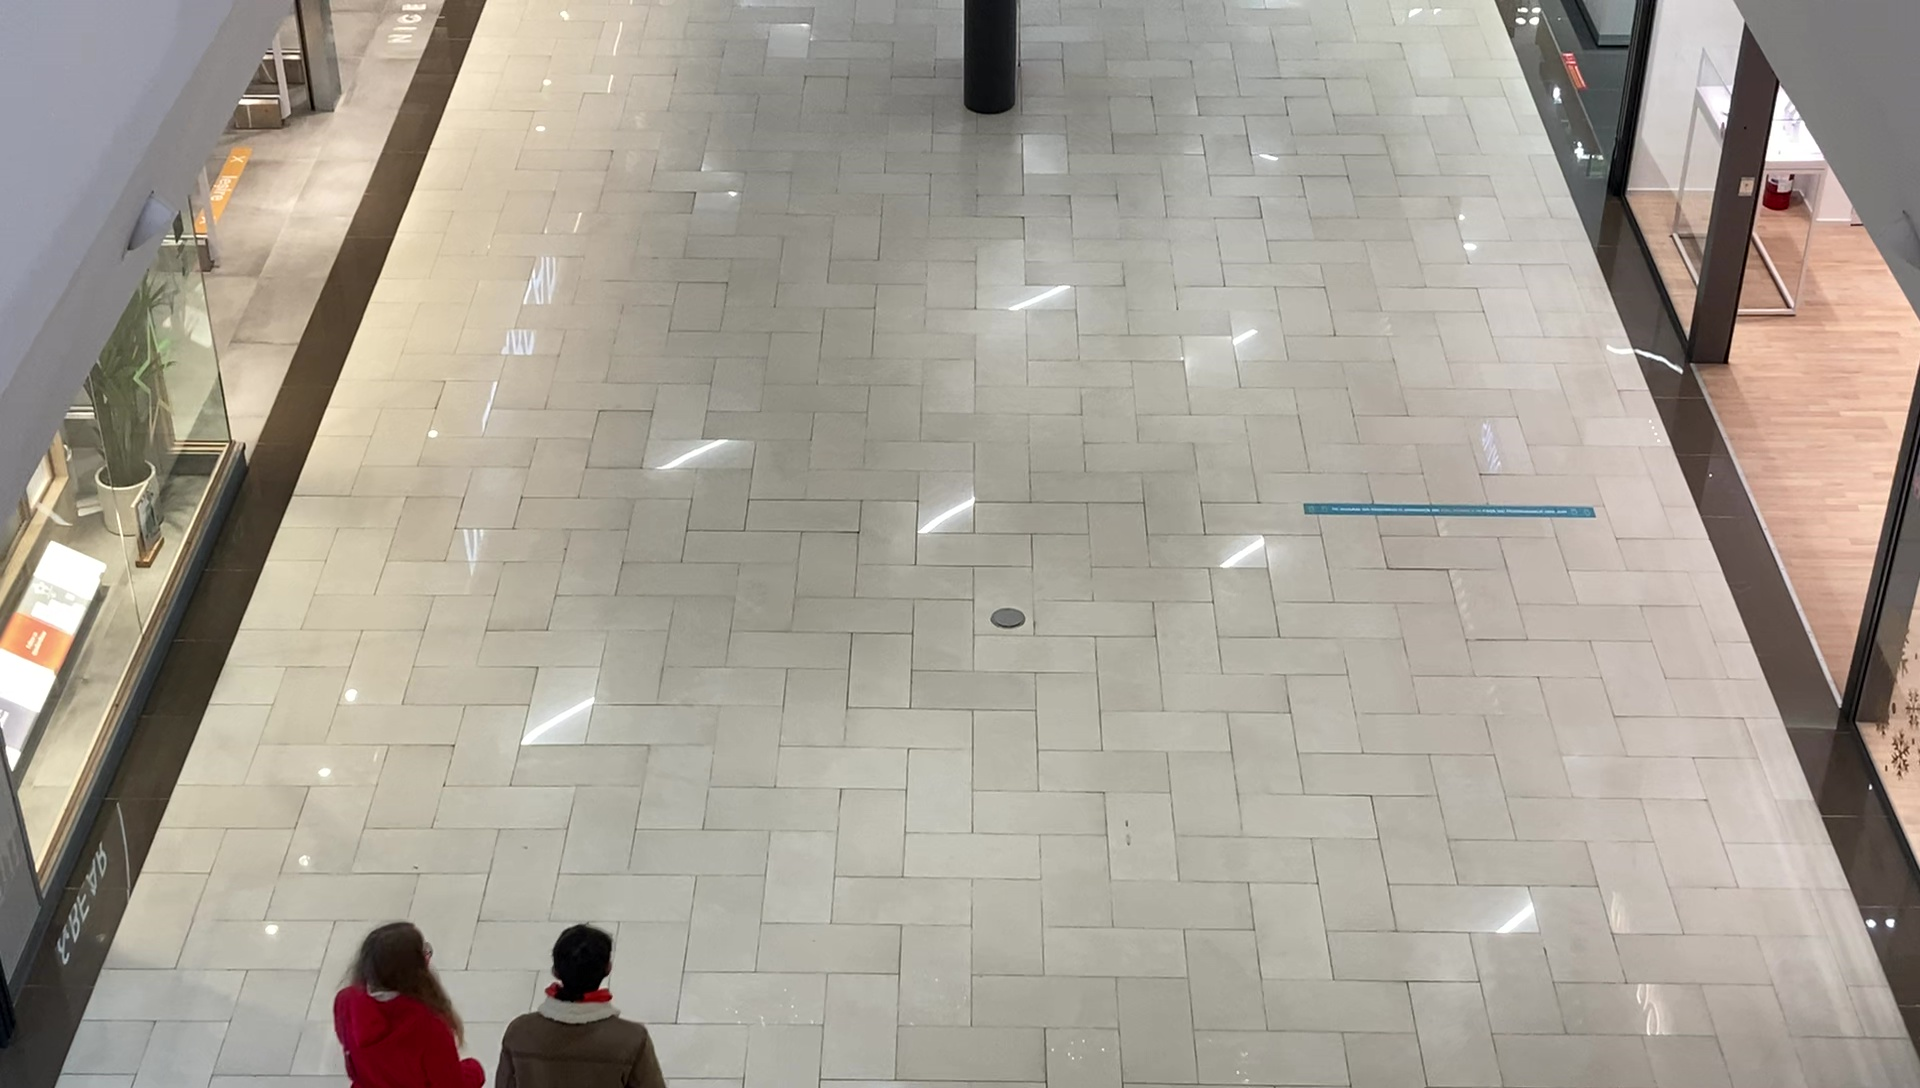person: (494, 925, 665, 1088), (333, 921, 485, 1088)
